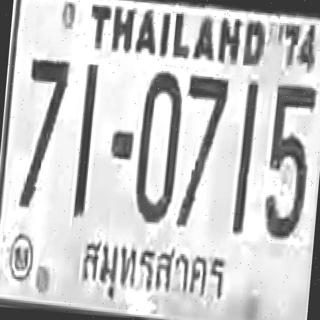N00: (132, 68, 184, 222)
N01: (72, 61, 98, 218), (233, 78, 258, 214)
N05: (260, 81, 316, 238)
N07: (18, 56, 69, 208), (176, 73, 227, 225)
P58: (74, 227, 233, 316)
